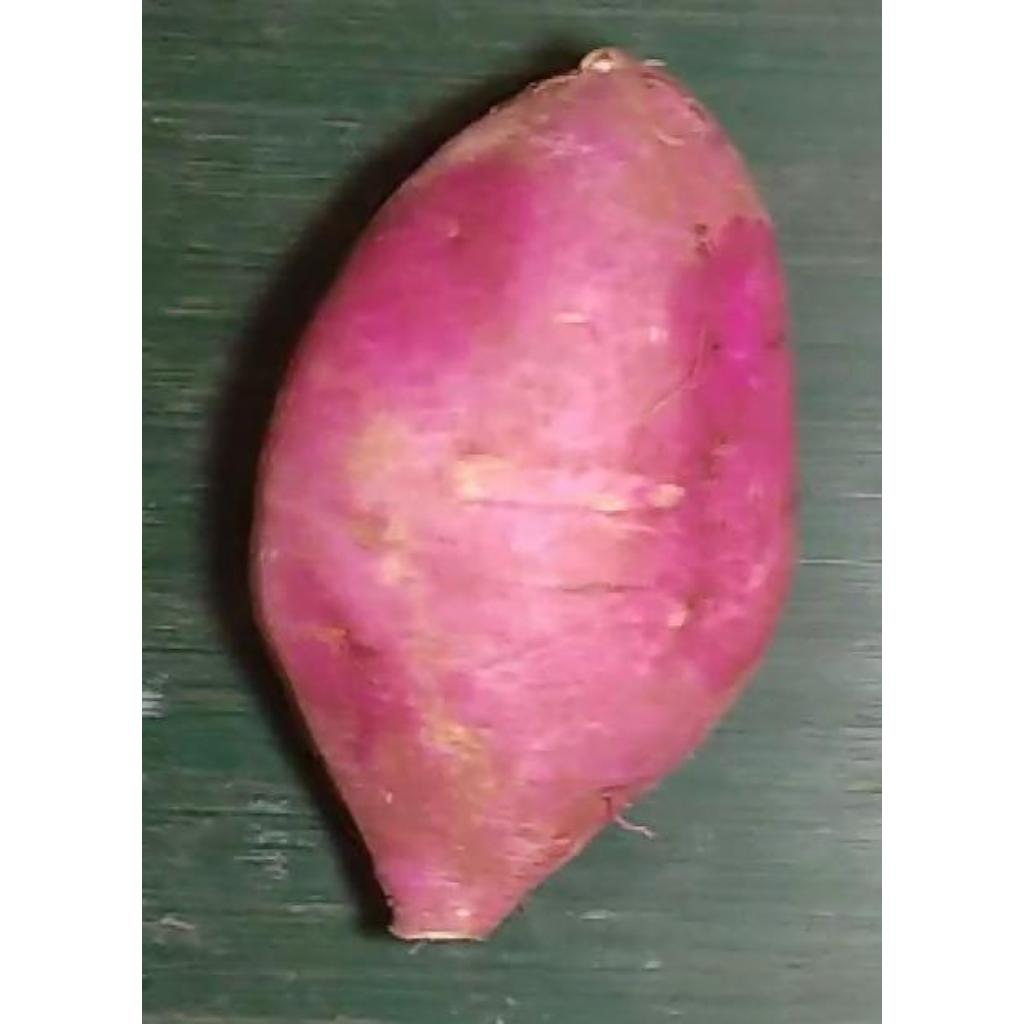Sweet Potato: (249, 49, 799, 947)
